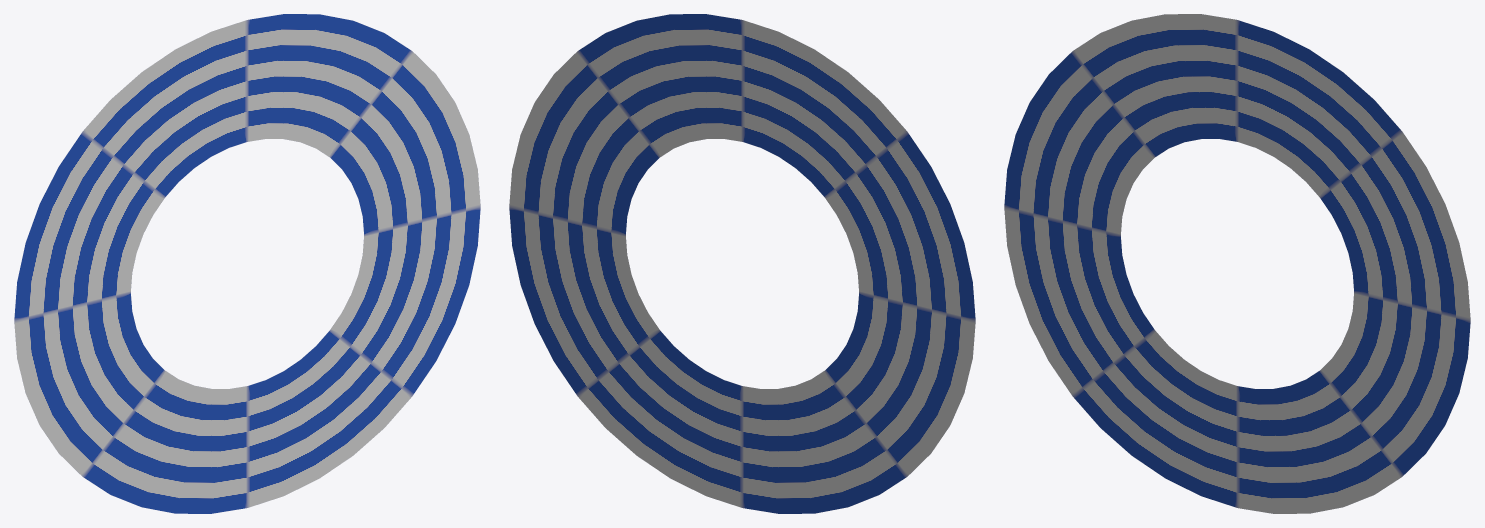
The model's file is flat_annulus.obj.
3 views of the same model, side by side, from view 1: azimuth 30°, elevation 25°; view 2: azimuth 150°, elevation 25°; view 3: azimuth 330°, elevation 25° (orthographic).
Size of the model in its own units: 4 by 4 by 0.
Materials: 1 (1 with a texture image).
